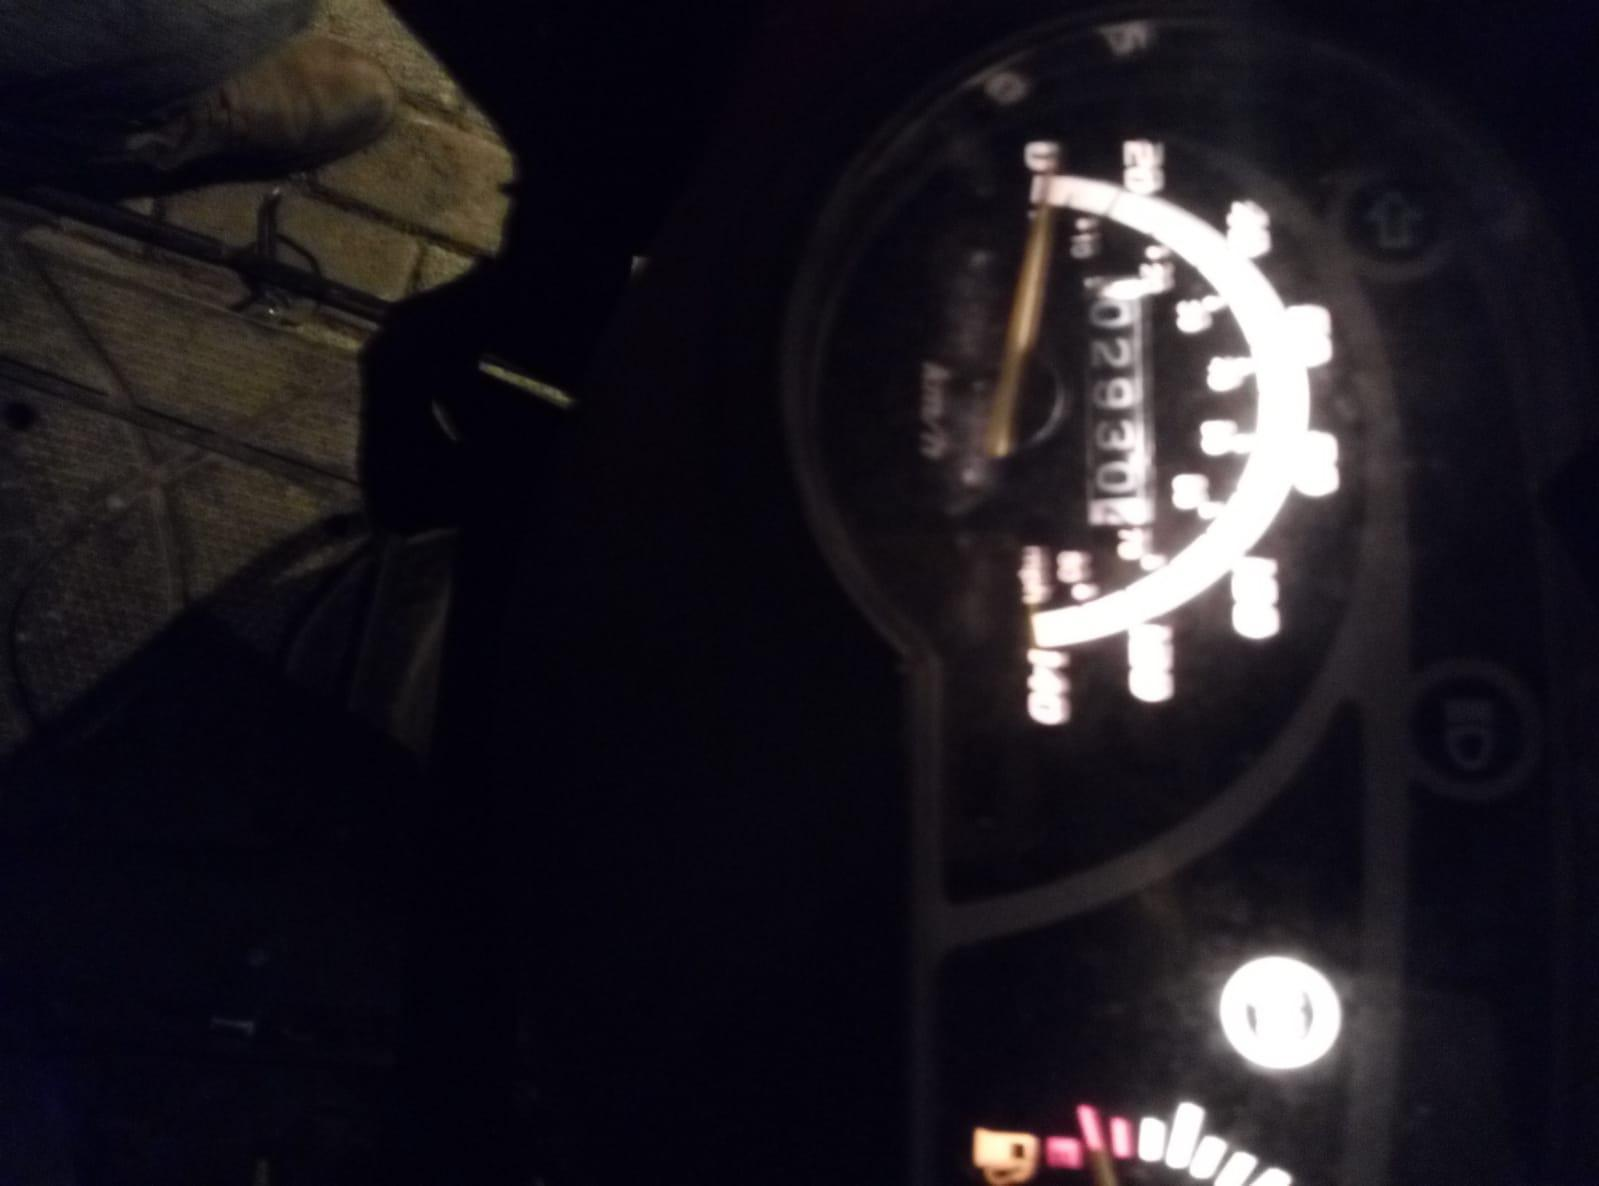0: (1090, 460, 1134, 493), (1087, 301, 1131, 326)
2: (1083, 338, 1134, 371)
3: (1088, 420, 1137, 453)
4: (1087, 500, 1144, 531)
9: (1087, 379, 1137, 411)
odometer: (1076, 273, 1158, 533)
